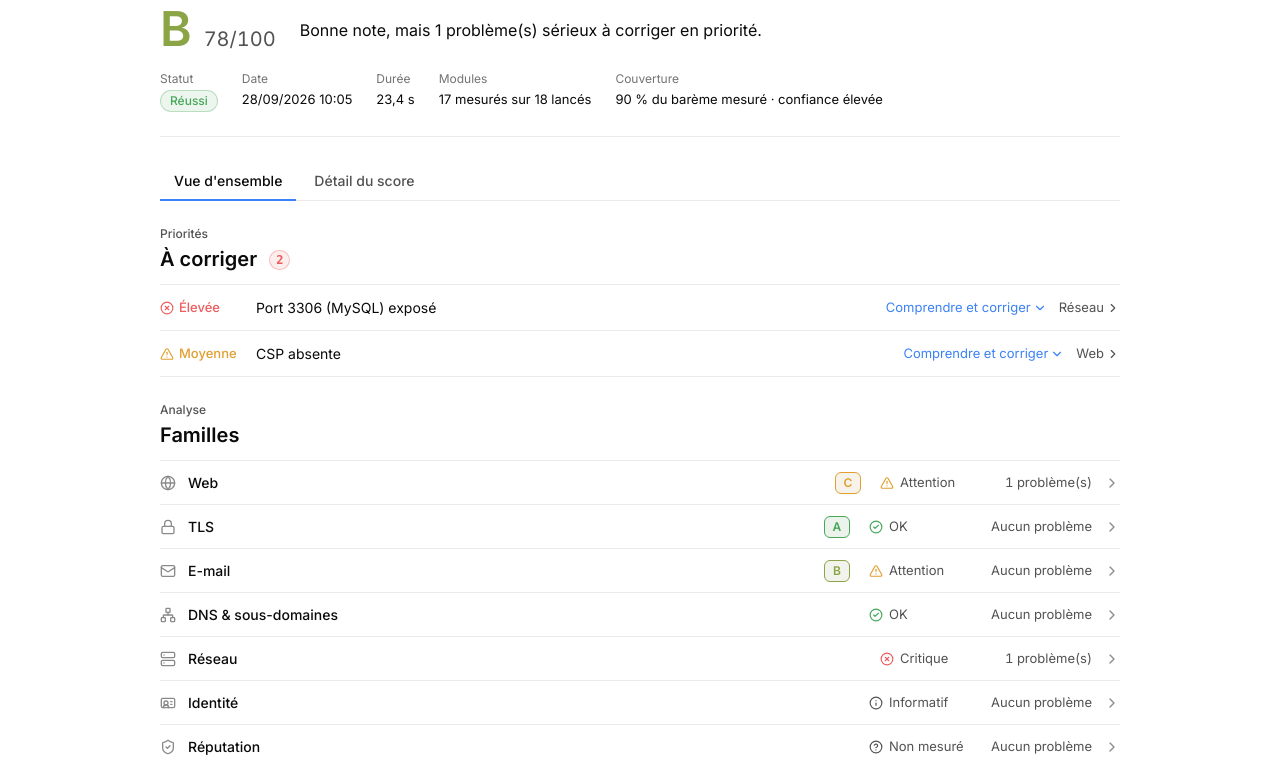
Scenario: écran Résultat › détail du score : barre masquée aux lecteurs d'écran pour un critère non mesuré, plafond sans grade inventé
Click the tab "Détail du score". click: coordinates (364, 181)
box: [300,161,429,201]
(page scrolled)
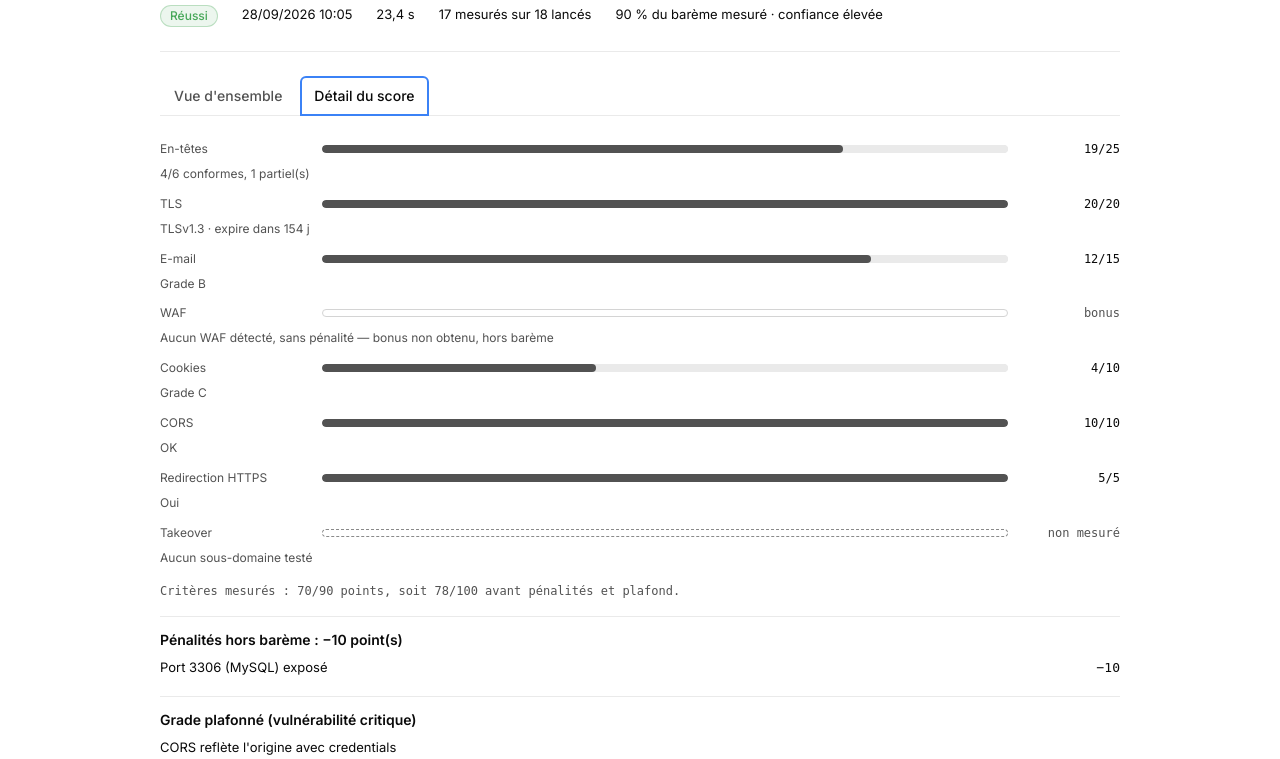
Expected: the text "Grade plafonné (vulnérabilité critique)" is shown, [160,711,416,728]
